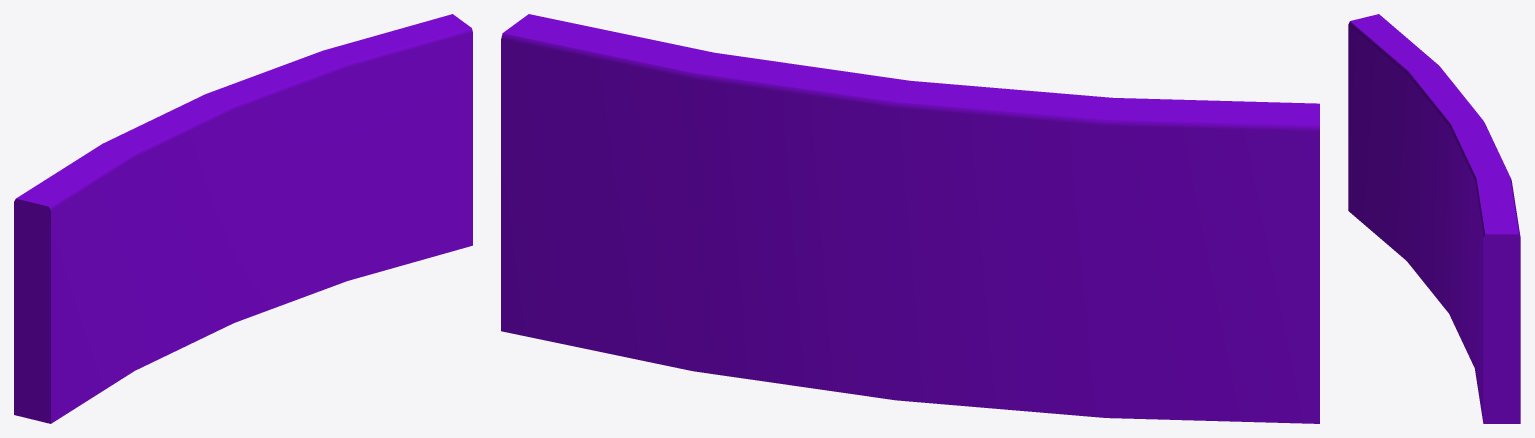
The model's file is RampN_C_15Deg_Left_Inv.fbx.
The picture shows the model from 3 angles, left to right: view 1: azimuth 30°, elevation 25°; view 2: azimuth 150°, elevation 25°; view 3: azimuth 270°, elevation 25°; orthographic projection. The views are drawn at different scales.
Visible parts, largest first — view 1: RampN_C_15Deg_Left_Inv; view 2: RampN_C_15Deg_Left_Inv; view 3: RampN_C_15Deg_Left_Inv.
Part boxes in pixels (x1,y1,x2,y2): RampN_C_15Deg_Left_Inv: [14, 14, 472, 423]; RampN_C_15Deg_Left_Inv: [501, 14, 1319, 423]; RampN_C_15Deg_Left_Inv: [1348, 14, 1520, 423].
Size of the model in its own units: 7.27 by 2.91 by 2.39.
